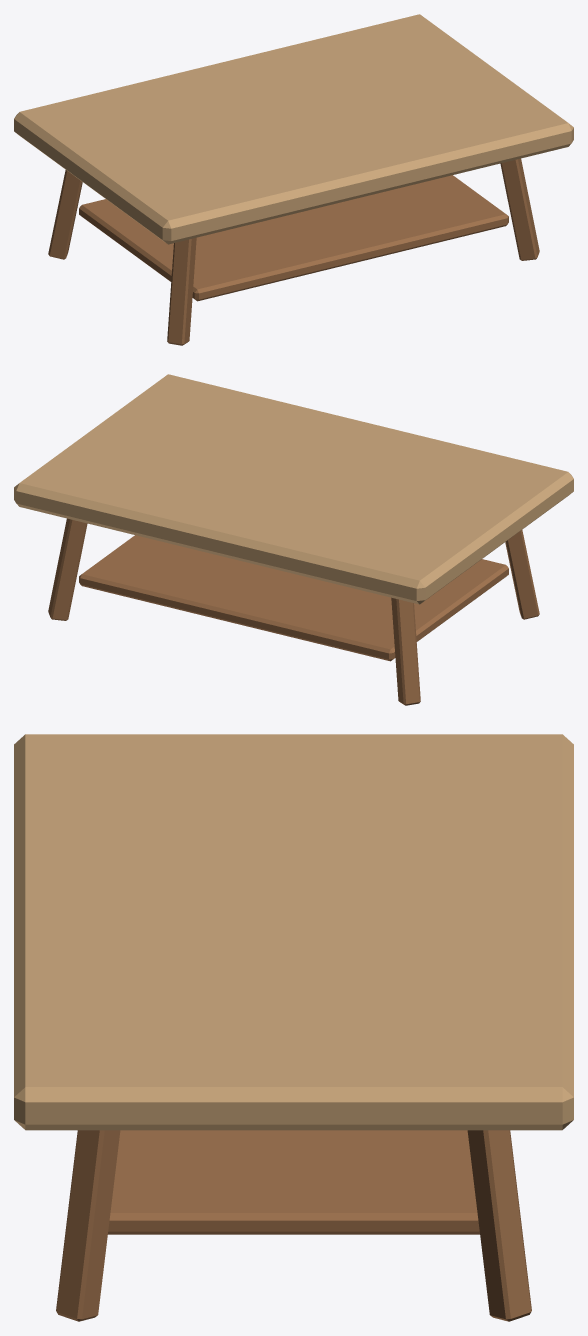
Rendered from Coffee_Table.fbx.
3 renders of one model, top to bottom at view 1: azimuth 30°, elevation 25°; view 2: azimuth 150°, elevation 25°; view 3: azimuth 270°, elevation 25°, orthographic. The views are drawn at different scales.
Parts seen in each view (by area): view 1: Coffee_Table; view 2: Coffee_Table; view 3: Coffee_Table.
Part boxes in pixels (x1,y1,x2,y2): Coffee_Table: (14,14,573,345); Coffee_Table: (14,374,573,705); Coffee_Table: (14,734,573,1321).
Size of the model in its own units: 360 by 117 by 235.
